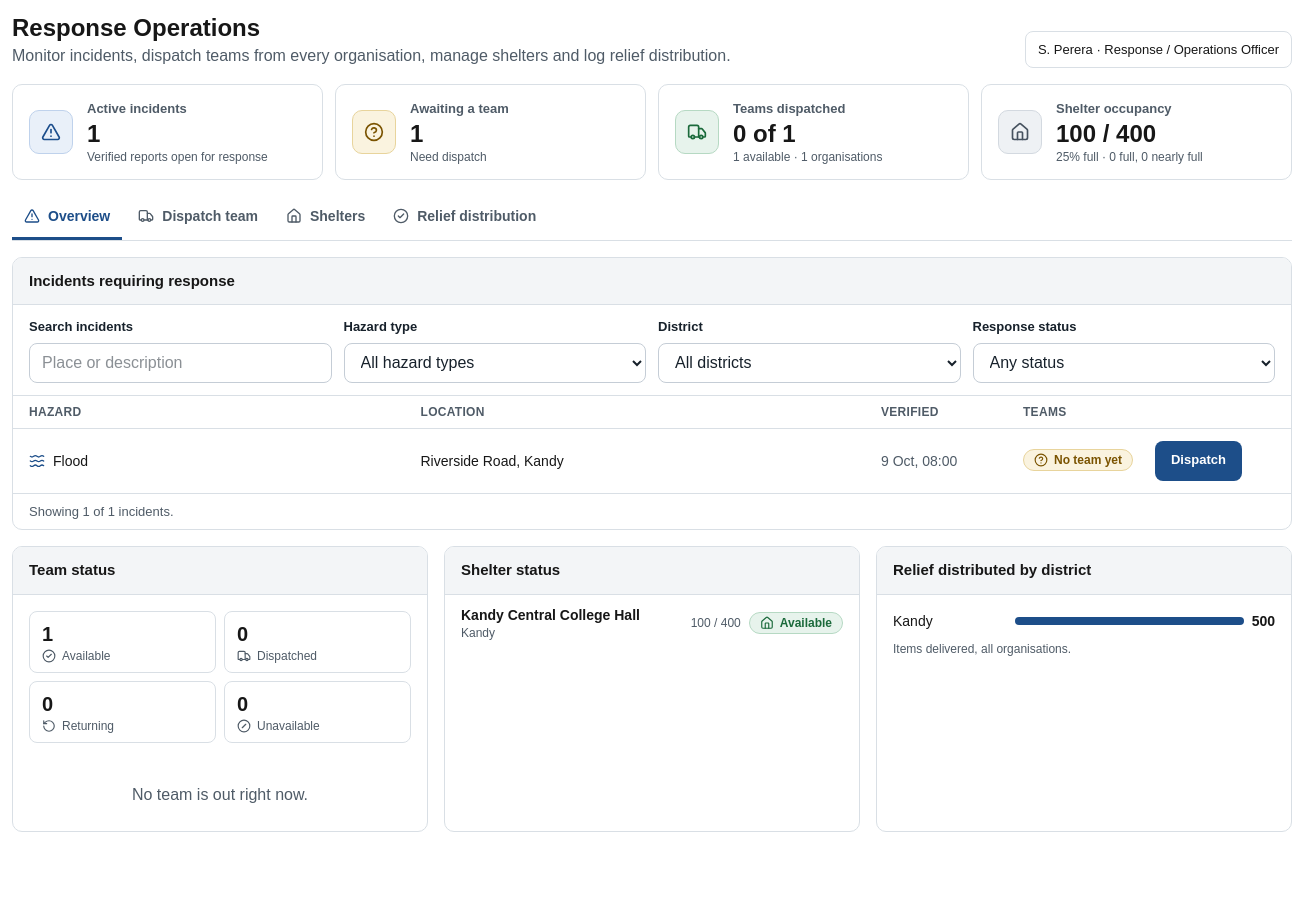
Test case: Shelters tab › sends arriving evacuees as a change, not as a total
Check: the text "Active incidents" is shown, box [87,101,187,116]
Click the tab "Shelters" at (326, 218), box [274,196,377,240]
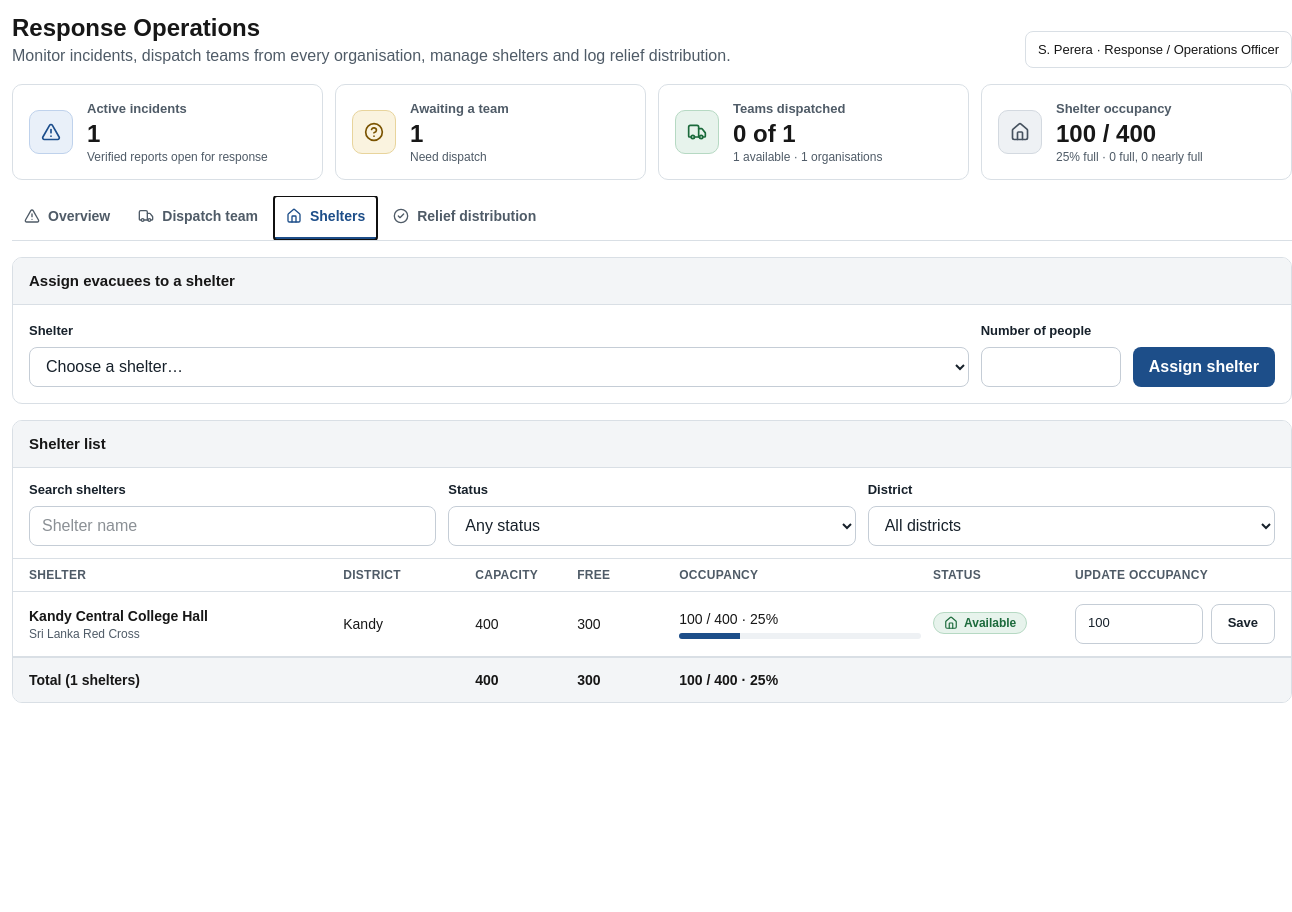
Select "Kandy Central College Hall — 300 places left" in the dropdown labelled "Shelter" at (499, 366), box [29,346,969,386]
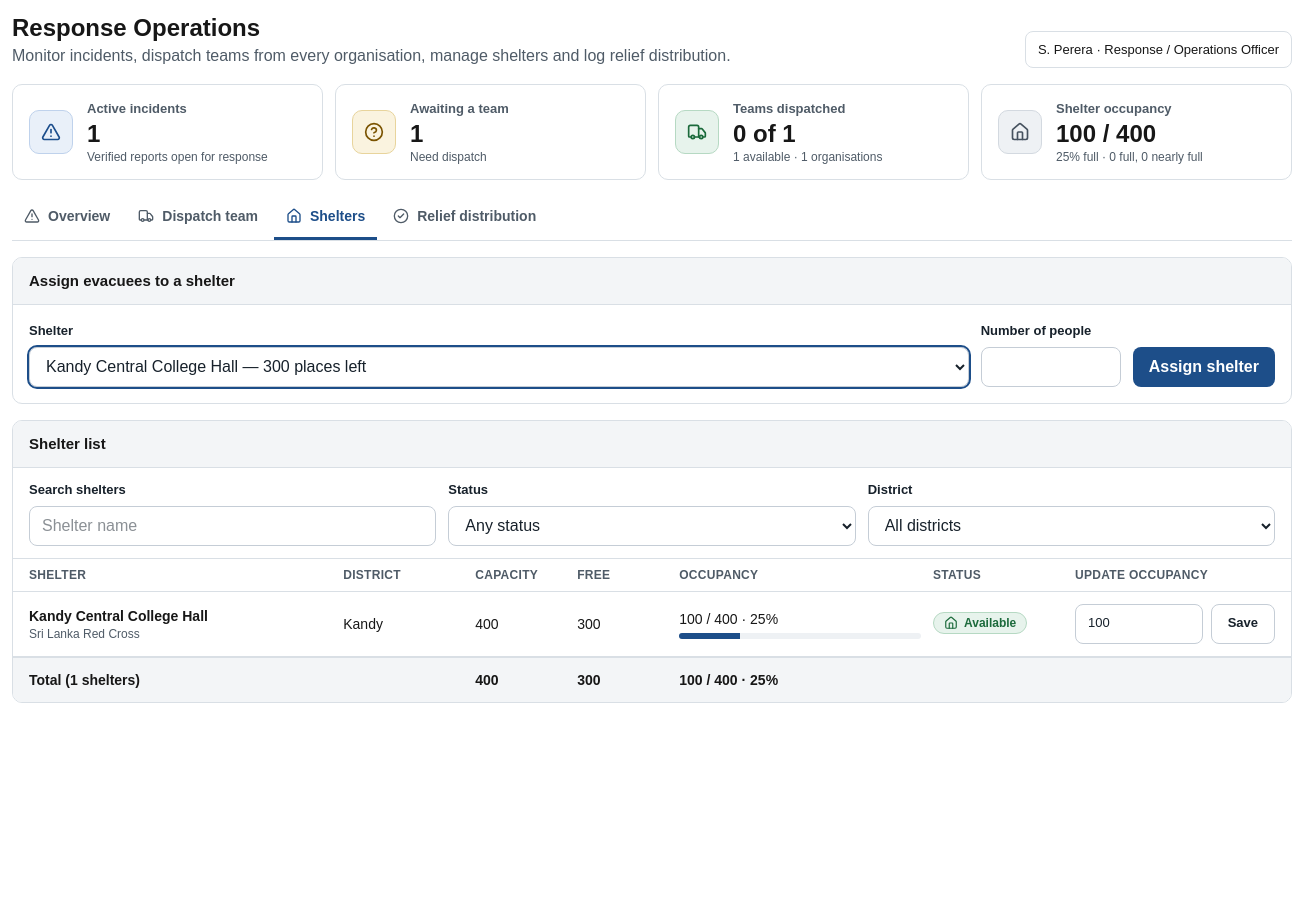
Type "25" into the number field labelled "Number of people" at (1051, 366), box [981,346,1121,386]
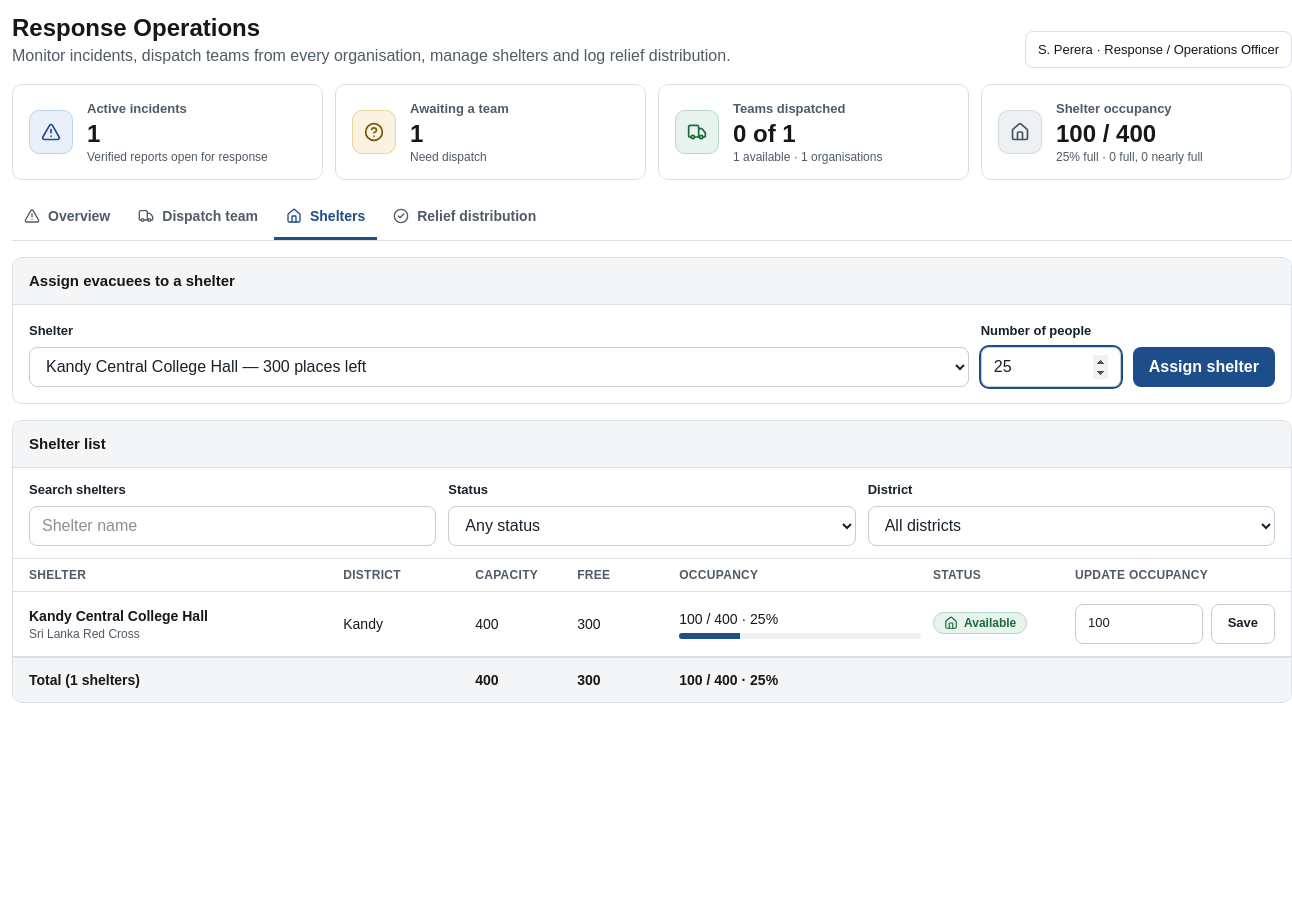
Click the button "Assign shelter" at (1204, 366), box [1133,346,1275,386]
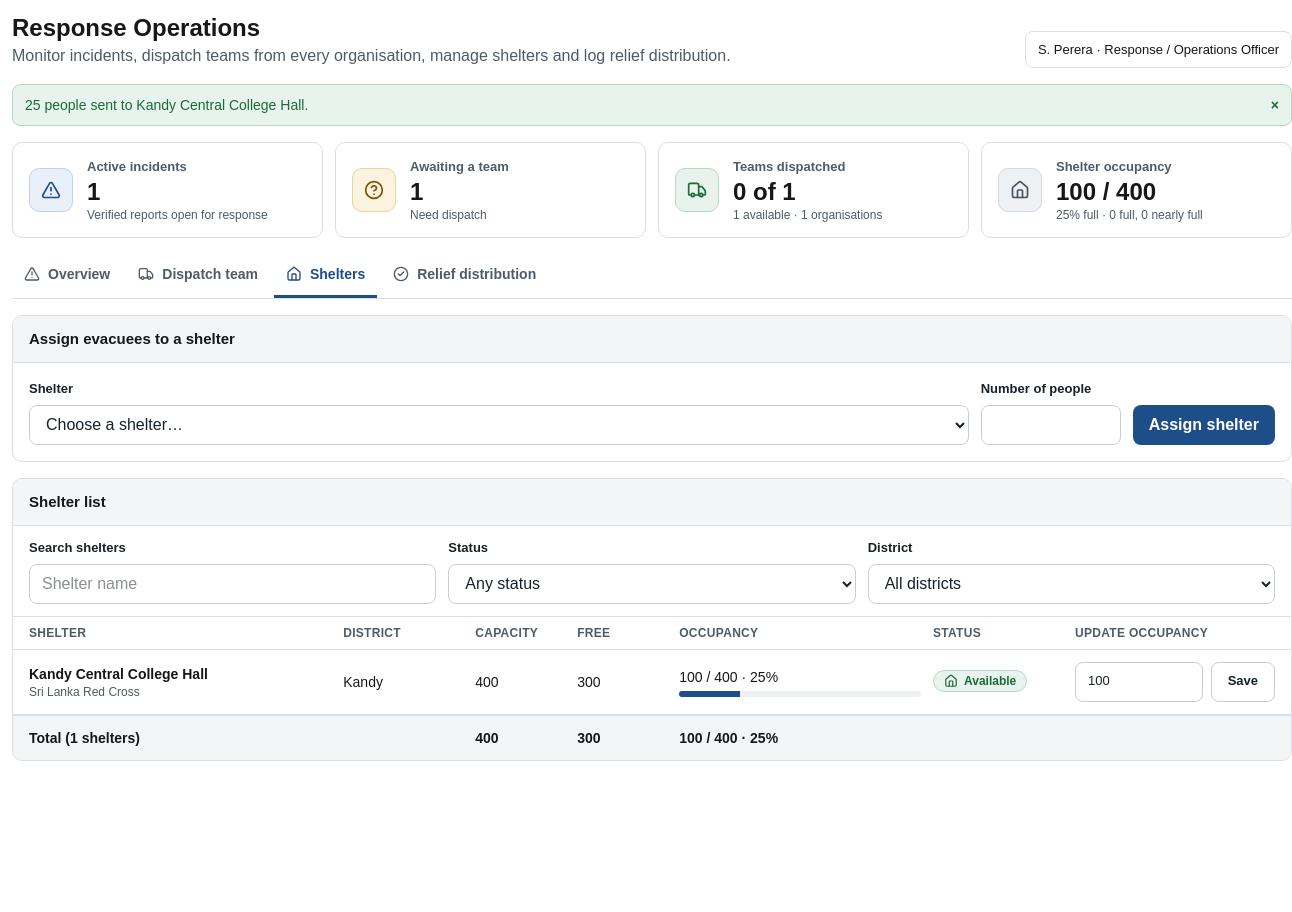
Check: the text "25 people sent to Kandy Central College Hall." is shown, box [25,97,308,113]
